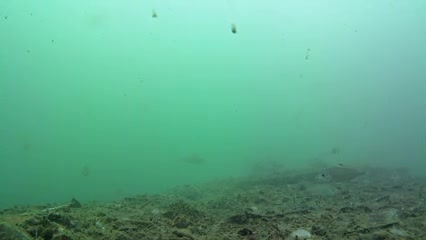smallfish: (311, 162, 371, 185)
